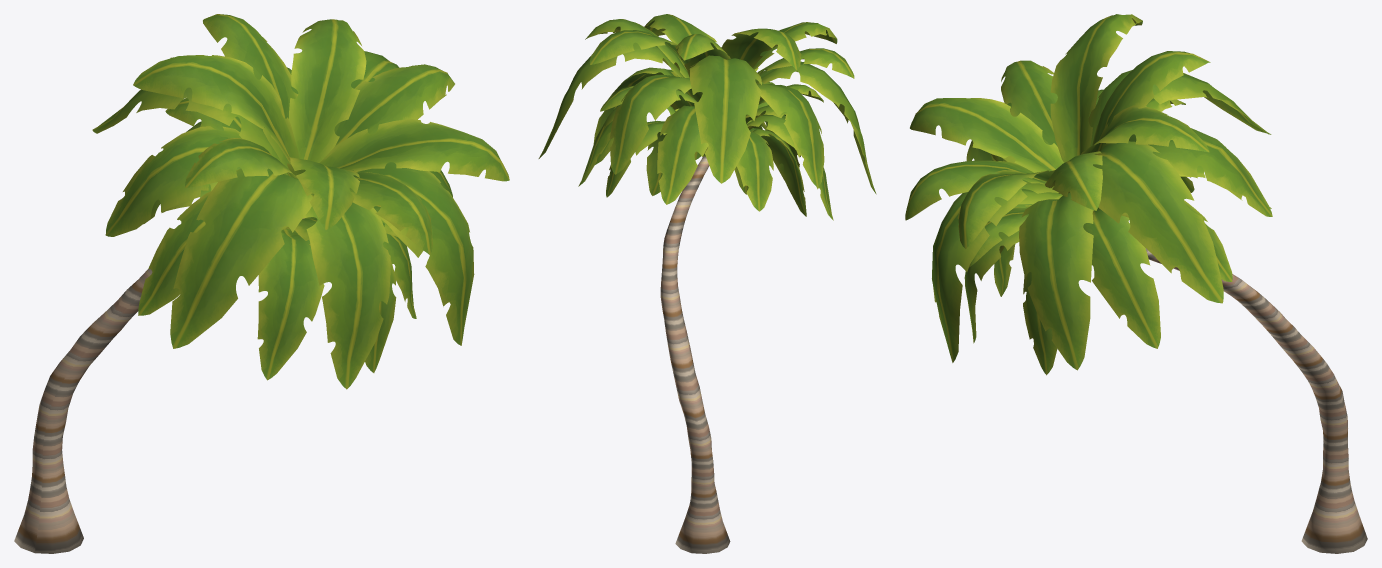
The model's file is PalmTree1.fbx.
3 views of the same model, side by side, from view 1: azimuth 30°, elevation 25°; view 2: azimuth 150°, elevation 25°; view 3: azimuth 270°, elevation 25° (orthographic). The views are drawn at different scales.
Visible parts, largest first — view 1: Plane.730; view 2: Plane.730; view 3: Plane.730.
Part boxes in pixels (<box>): Plane.730: <box>14,14,509,553</box>; Plane.730: <box>538,14,876,553</box>; Plane.730: <box>905,14,1367,553</box>.
Bounding box in the file's own units: 1062 × 1745 × 1372.
